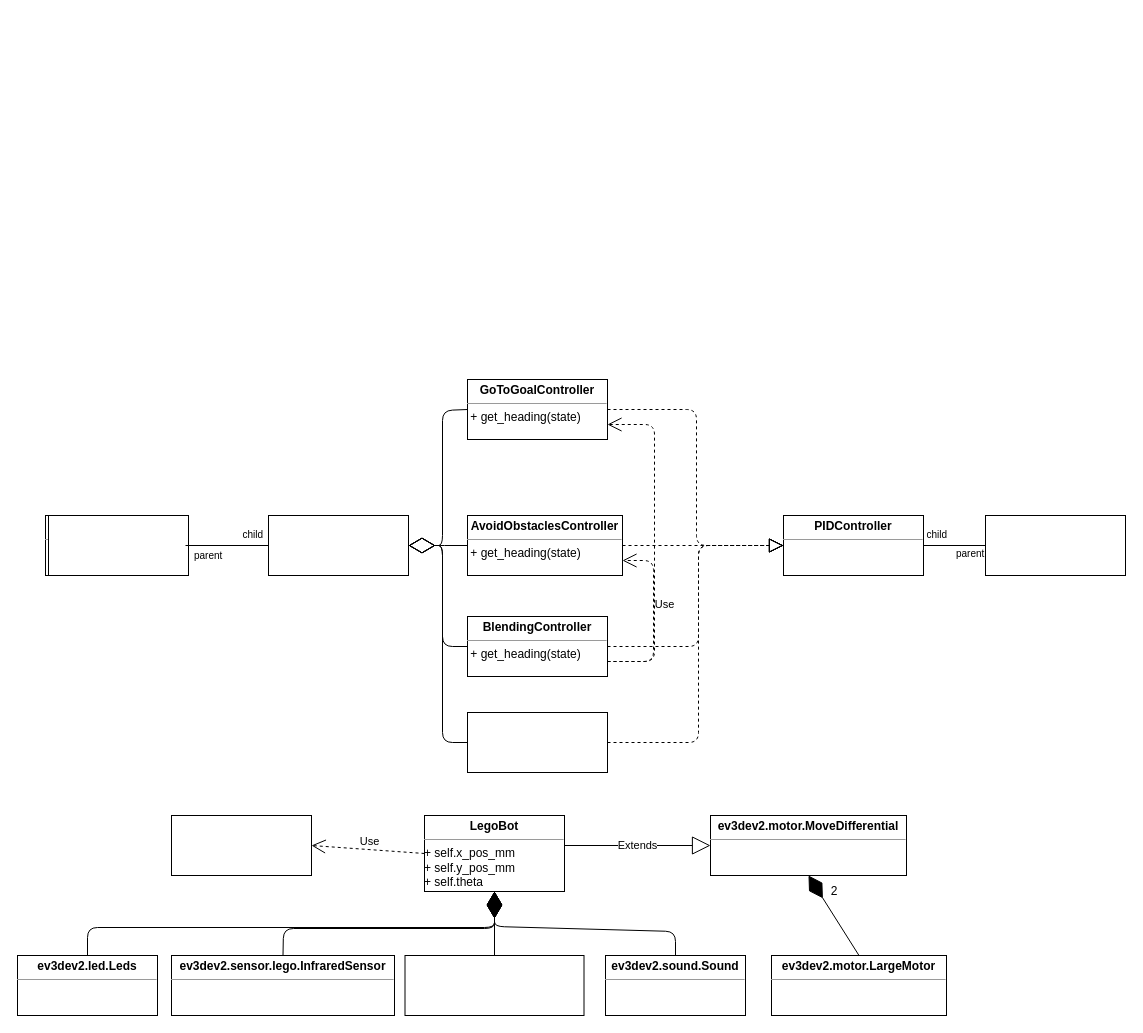
Some shapes in this 1143 by 1033 pixel diagram are drawn without their labels. The box of each missing label's shape, as (x1, y1, x2, y2) in pixels:
Controller: (984, 514, 1126, 576)
ev3dev2.motor.MediumMotor: (404, 954, 584, 1016)
FollowWallController + get_heading(state): (466, 712, 608, 772)
LegoBotSupervisor: (268, 514, 408, 576)
Pose: (170, 814, 312, 876)
Supervisor: (48, 514, 188, 576)
